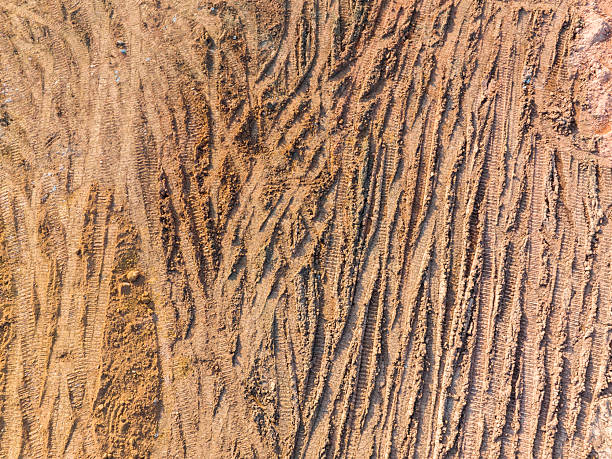vehicle_track: (0, 0, 611, 457), (275, 318, 297, 455)
